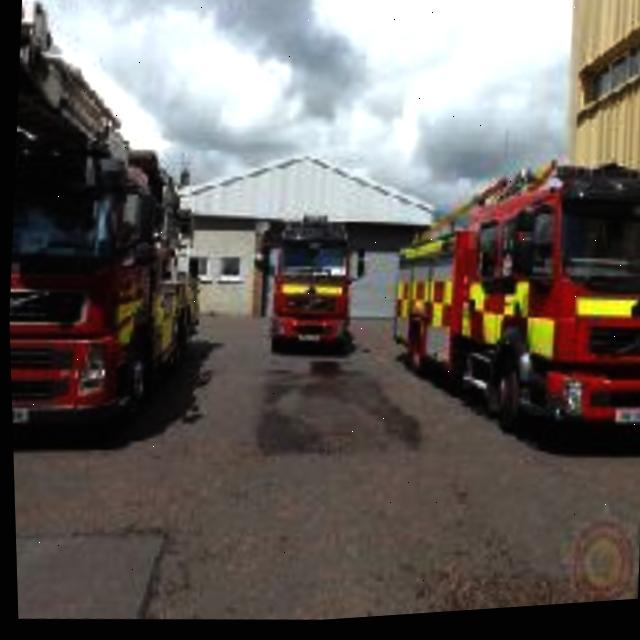emergency: (381, 185, 640, 464), (3, 127, 217, 438), (256, 211, 368, 363)
